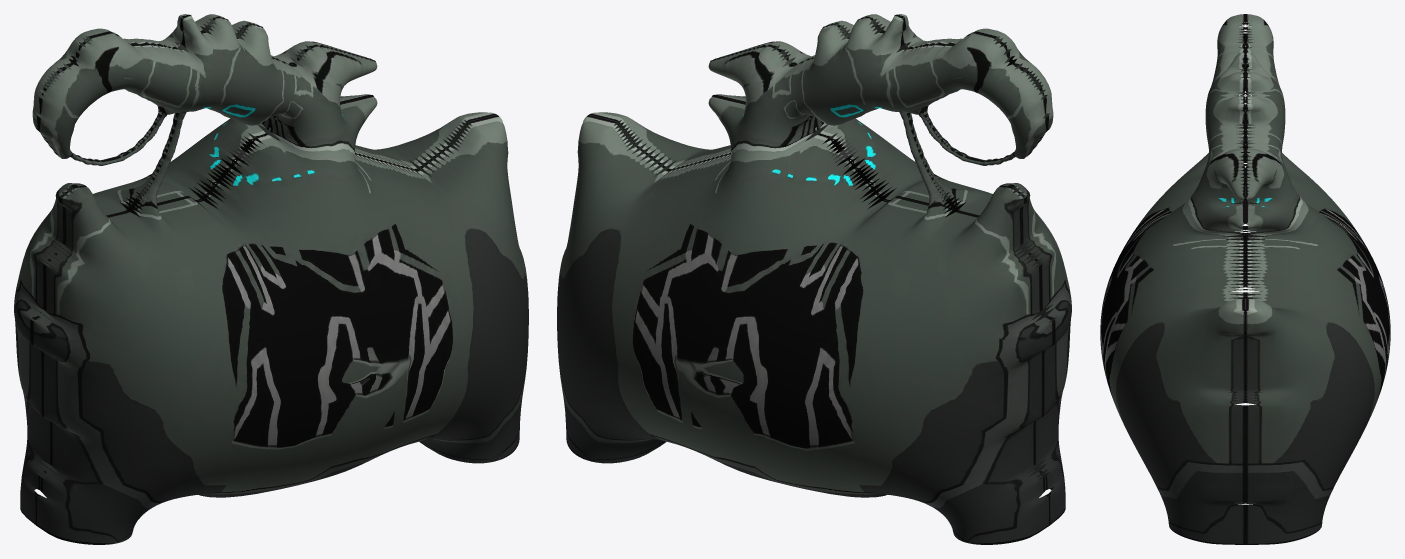
The model's file is outer_hull_panel.glb.
3 renders of one model, left to right at view 1: azimuth 30°, elevation 25°; view 2: azimuth 150°, elevation 25°; view 3: azimuth 270°, elevation 25°, orthographic. The views are drawn at different scales.
Visible parts, largest first — view 1: outer_hull_panel; view 2: outer_hull_panel; view 3: outer_hull_panel.
Boxes of the visible parts, x1,y1,x2,y2 form: outer_hull_panel: [14, 14, 528, 544]; outer_hull_panel: [557, 14, 1071, 544]; outer_hull_panel: [1100, 14, 1390, 544].
Bounding box in the file's own units: 0.989 × 0.9535 × 0.6708.
Materials: 1 (1 with a texture image).
